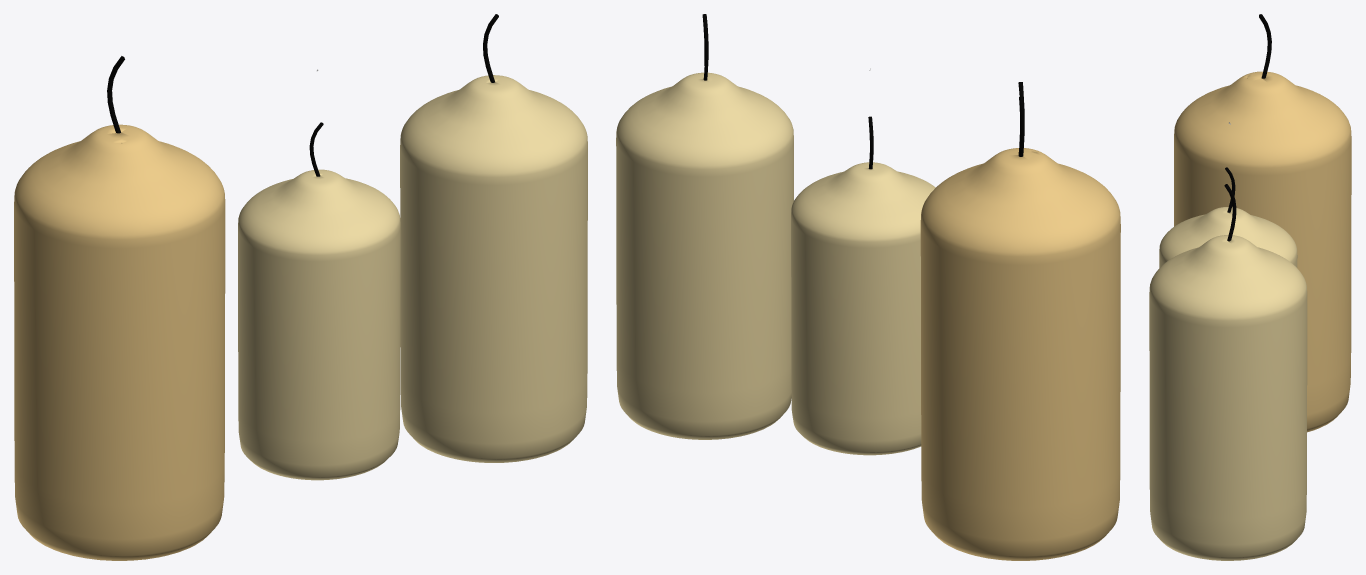
The model's file is candles1.fbx.
The picture shows the model from 3 angles, left to right: view 1: azimuth 30°, elevation 25°; view 2: azimuth 150°, elevation 25°; view 3: azimuth 270°, elevation 25°; orthographic projection. The views are drawn at different scales.
Parts seen in each view (by area): view 1: candle, candle3, candle 2; view 2: candle, candle3, candle 2; view 3: candle3, candle, candle 2.
Part boxes in pixels (bbox=[...]): candle: bbox=[14, 56, 225, 560]; candle3: bbox=[400, 14, 587, 462]; candle 2: bbox=[238, 69, 400, 480]; candle: bbox=[920, 82, 1120, 560]; candle3: bbox=[616, 14, 793, 439]; candle 2: bbox=[791, 68, 935, 455]; candle3: bbox=[1149, 184, 1307, 560]; candle: bbox=[1174, 14, 1351, 432]; candle 2: bbox=[1159, 122, 1297, 267].
Bounding box in the file's own units: 58.32 × 49.51 × 23.07.
